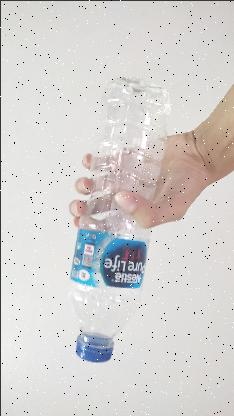Plastic Bottle: (60, 74, 178, 366)
